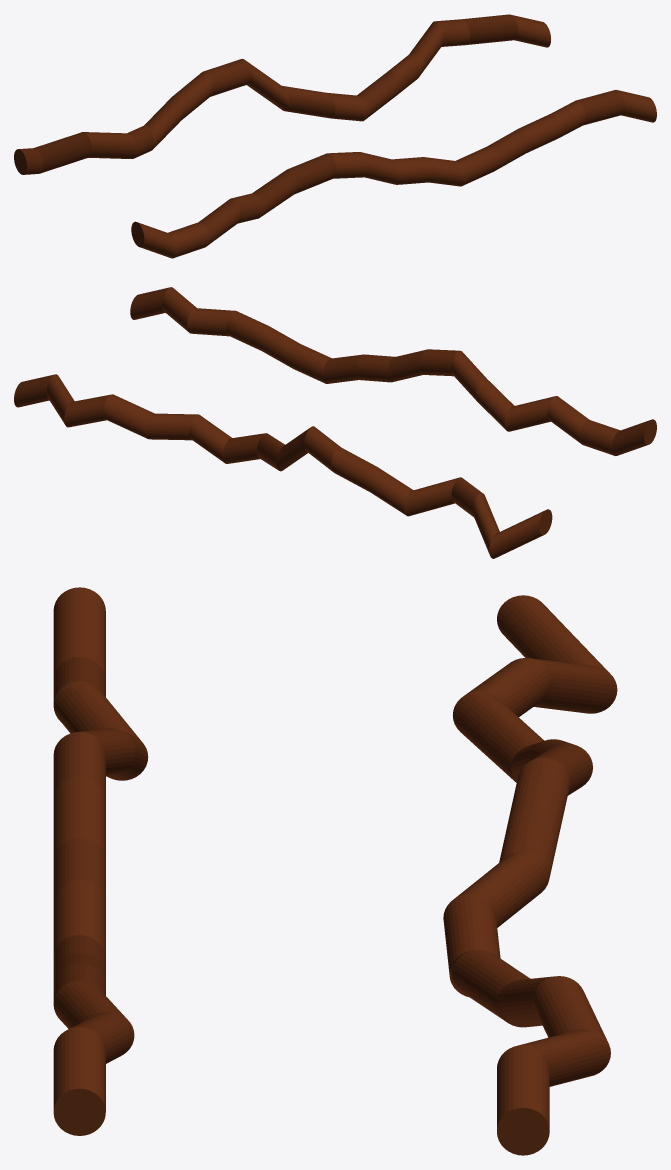
The model's file is Roots Sparse.fbx.
3 renders of one model, top to bottom at view 1: azimuth 30°, elevation 25°; view 2: azimuth 150°, elevation 25°; view 3: azimuth 270°, elevation 25°, orthographic. The views are drawn at different scales.
Parts seen in each view (by area): view 1: Roots.014; view 2: Roots.014; view 3: Roots.014.
Part boxes in pixels (x1,y1,x2,y2): Roots.014: (14, 14, 656, 258); Roots.014: (14, 287, 656, 558); Roots.014: (53, 587, 617, 1155).
Bounding box in the file's own units: 991 × 134 × 462.
